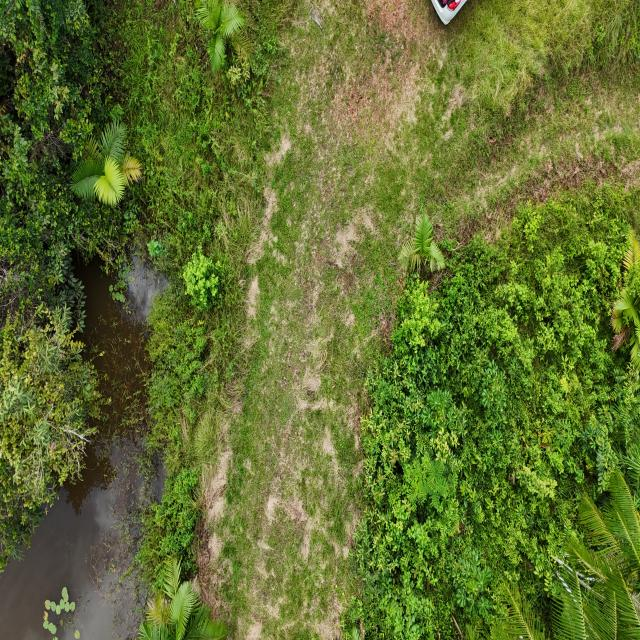vegetation: (342, 191, 639, 638)
